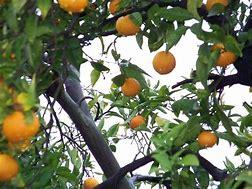orange: (203, 35, 245, 70), (10, 99, 49, 135), (148, 53, 188, 80), (124, 74, 153, 107), (109, 15, 147, 39), (197, 128, 223, 152)
